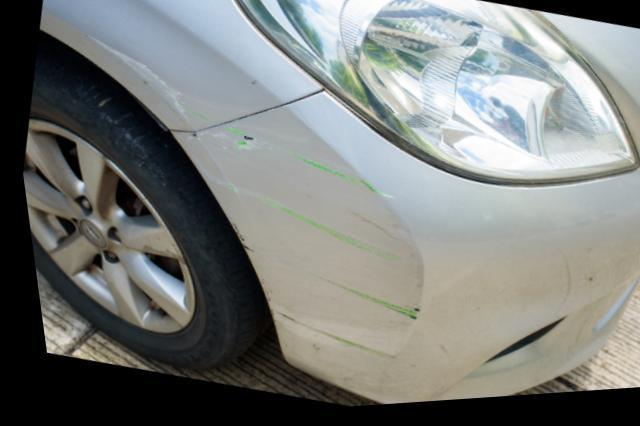scratch: (177, 128, 418, 371), (83, 32, 209, 129)
